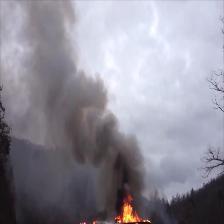fire: (119, 202, 142, 223)
smoke: (23, 2, 73, 103), (75, 79, 103, 159), (110, 137, 138, 197)
